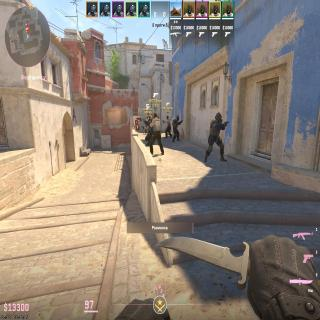CT-Body: (209, 111, 224, 160), (172, 115, 180, 141), (146, 115, 153, 140)
CT-Head: (216, 112, 222, 122), (177, 115, 180, 121), (147, 115, 150, 119)
T-Body: (152, 112, 162, 154), (166, 115, 171, 137)
T-Head: (154, 113, 157, 118), (166, 116, 168, 119)
